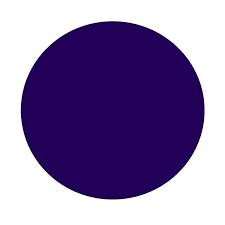blue_circle: (14, 15, 211, 204)
